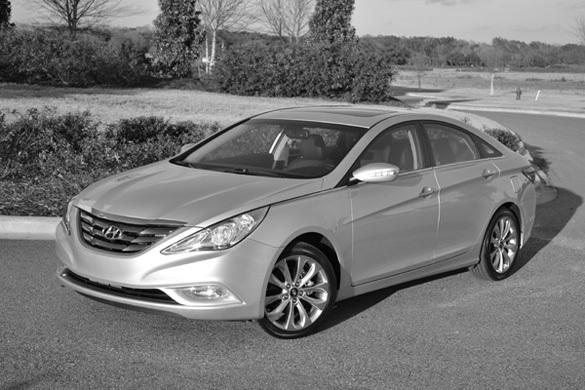car: (37, 91, 575, 350)
